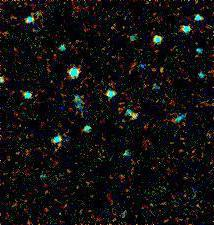star: (50, 98, 80, 128)
